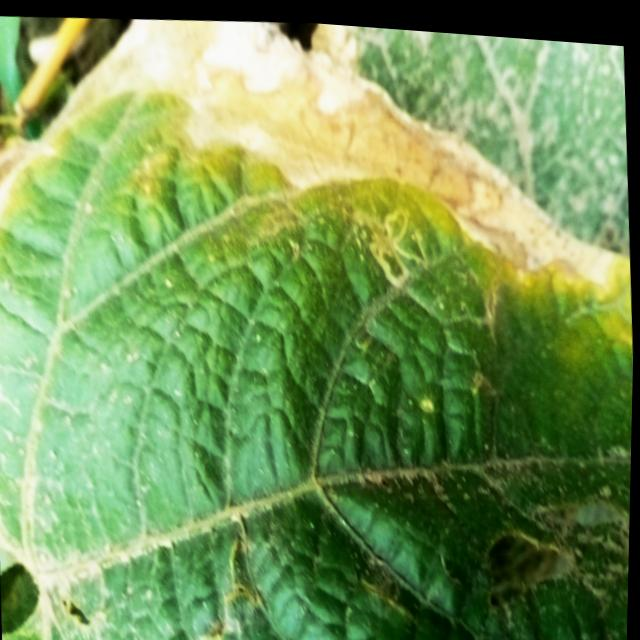Gummy-Stem-Blight: (0, 0, 636, 329)
